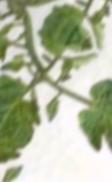Tomato leaf mosaic virus: (57, 64, 112, 174), (27, 17, 112, 85), (0, 61, 58, 143)
